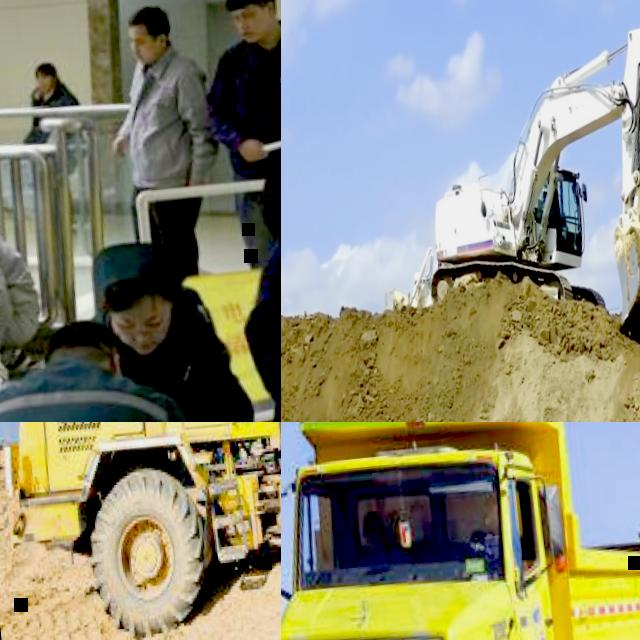NO-Hardhat: (96, 248, 180, 307), (38, 315, 119, 362), (253, 148, 281, 235), (124, 1, 170, 33), (361, 508, 382, 532), (32, 59, 57, 76)
NO-Mask: (122, 330, 168, 357), (241, 15, 275, 43), (134, 41, 160, 64), (37, 79, 52, 91)
NO-Safety Vest: (116, 55, 202, 187), (0, 359, 180, 422), (118, 308, 214, 422), (213, 37, 281, 158), (0, 217, 36, 314), (29, 89, 79, 136), (360, 541, 398, 565)
Person: (94, 0, 231, 289), (82, 227, 271, 422), (0, 298, 263, 422), (193, 0, 281, 271), (14, 55, 94, 237), (0, 164, 45, 405), (351, 507, 404, 565), (540, 187, 569, 248)
vehicle: (406, 22, 640, 366), (281, 422, 640, 640), (0, 422, 281, 640), (378, 243, 438, 317)
